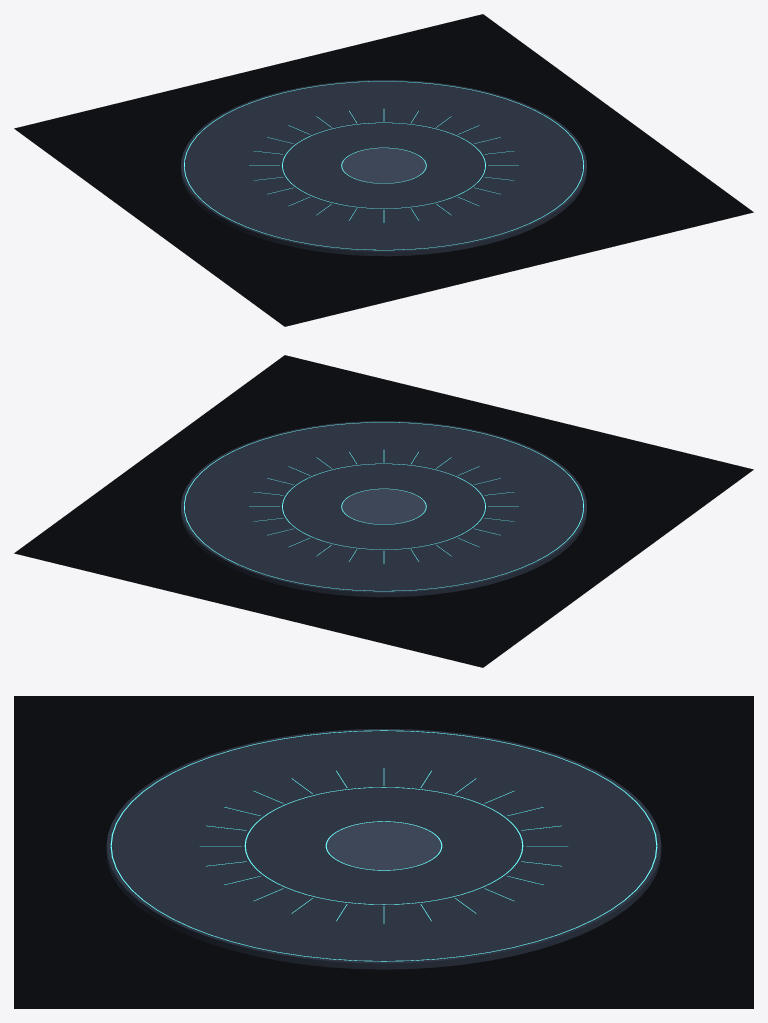
The picture shows the model from 3 angles, top to bottom: view 1: azimuth 30°, elevation 25°; view 2: azimuth 150°, elevation 25°; view 3: azimuth 270°, elevation 25°; orthographic projection. The views are drawn at different scales.
Visible parts, largest first — view 1: nexo_floor.lod1; view 2: nexo_floor.lod1; view 3: nexo_floor.lod1.
Part boxes in pixels (x1,y1,x2,y2): nexo_floor.lod1: (14,14,753,326); nexo_floor.lod1: (14,355,753,667); nexo_floor.lod1: (14,696,753,1008).
Size of the model in its own units: 64 by 0.6328 by 64.
